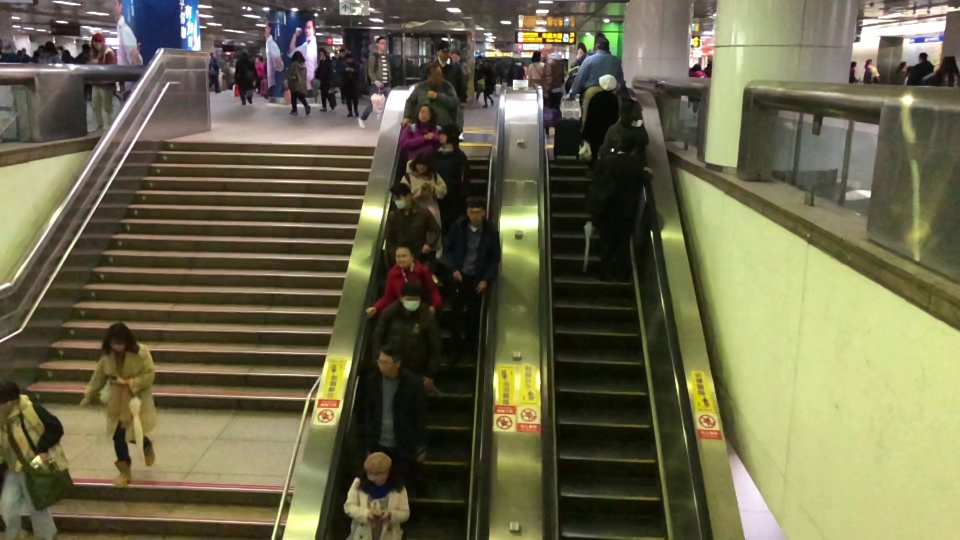person_head: (104, 318, 137, 360), (0, 378, 24, 425), (361, 452, 393, 485), (377, 343, 402, 378), (617, 94, 642, 124), (405, 152, 434, 176), (390, 181, 412, 211), (420, 63, 445, 88), (464, 197, 486, 225), (398, 282, 420, 309), (435, 125, 461, 147), (618, 127, 637, 156), (414, 101, 435, 127), (393, 240, 412, 267), (595, 71, 615, 90), (432, 39, 448, 61), (940, 55, 956, 77), (87, 34, 104, 51), (595, 37, 610, 55), (374, 36, 389, 51), (290, 50, 306, 64), (317, 45, 328, 61), (543, 43, 556, 56), (529, 48, 539, 63), (576, 42, 586, 57), (864, 56, 875, 68), (450, 50, 461, 61), (897, 59, 906, 71), (918, 53, 928, 63)
person_vbox: (81, 312, 154, 503), (0, 372, 61, 540), (447, 197, 499, 385), (595, 125, 644, 276), (353, 342, 414, 457), (373, 282, 432, 400), (343, 452, 411, 540), (362, 241, 441, 314), (573, 34, 626, 123), (582, 71, 626, 168), (398, 153, 448, 235), (83, 27, 118, 144), (434, 123, 473, 228), (384, 180, 438, 249), (600, 91, 650, 161), (358, 30, 391, 134), (411, 61, 459, 128), (392, 100, 440, 148), (446, 47, 469, 143), (543, 44, 566, 140), (420, 39, 456, 93), (286, 48, 311, 121), (312, 45, 336, 114), (234, 52, 254, 106), (342, 51, 357, 119), (934, 55, 960, 88), (911, 50, 934, 87), (526, 44, 546, 86), (338, 46, 351, 104), (860, 52, 883, 84), (482, 57, 495, 112), (690, 61, 703, 113), (570, 39, 588, 76), (207, 51, 221, 93), (474, 54, 483, 104), (894, 58, 910, 86), (255, 52, 265, 94), (74, 42, 91, 64), (44, 40, 59, 63), (513, 60, 524, 84), (704, 55, 713, 79), (59, 49, 74, 63), (33, 45, 44, 63), (521, 59, 529, 82), (848, 60, 856, 83), (54, 45, 64, 58)
